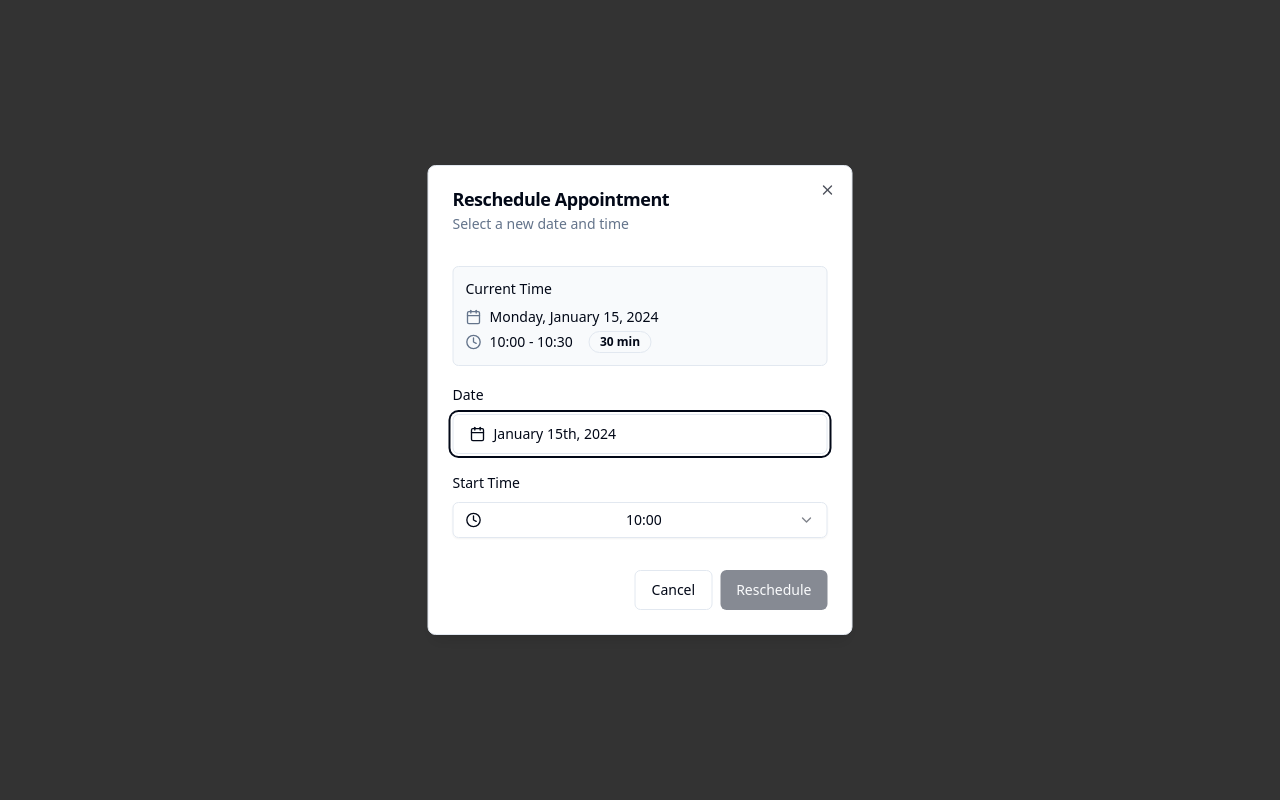
Test: QuickRescheduleDialog › New Time Preview › should show preview when time is changed
// Change the time
Step 1. Click the dropdown → [640, 520], box [452,502,828,538]
(page scrolled)
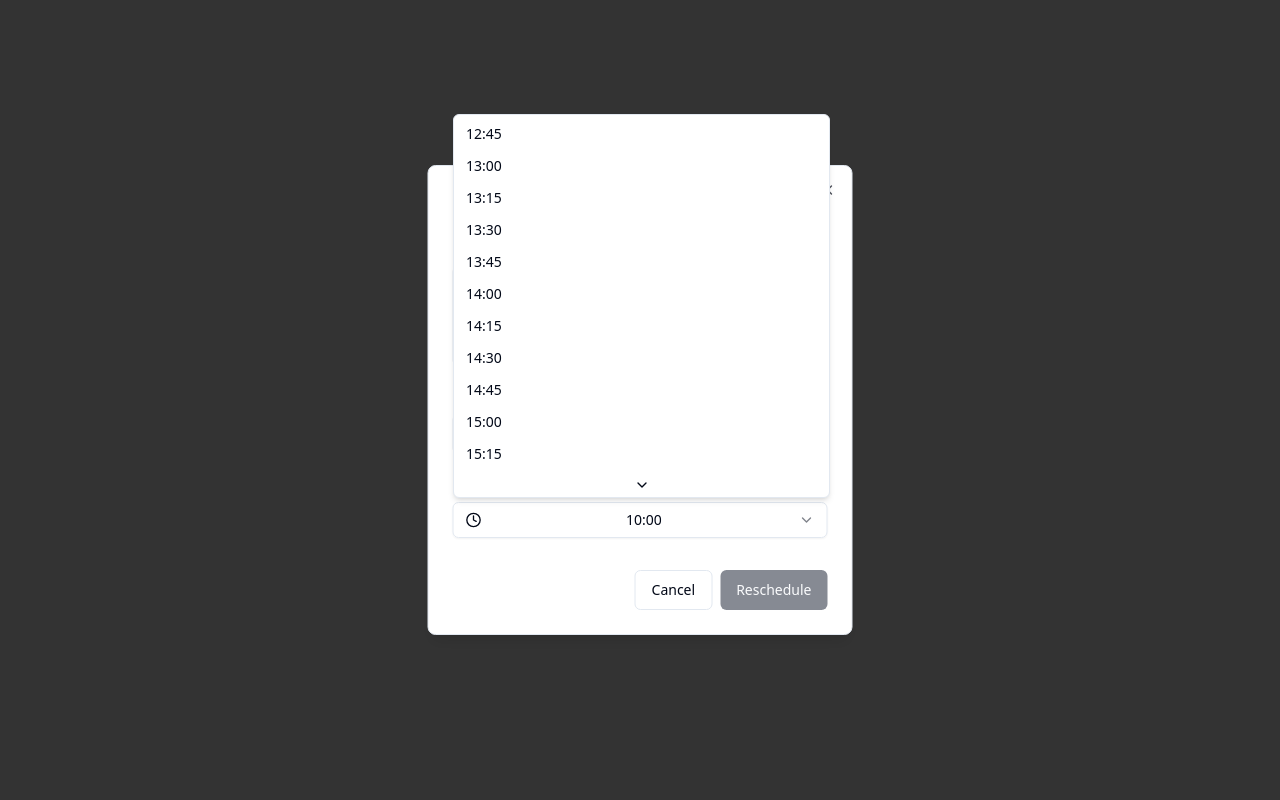
Step 2. Click the option "14:00" → [484, 294], box [466,284,502,303]
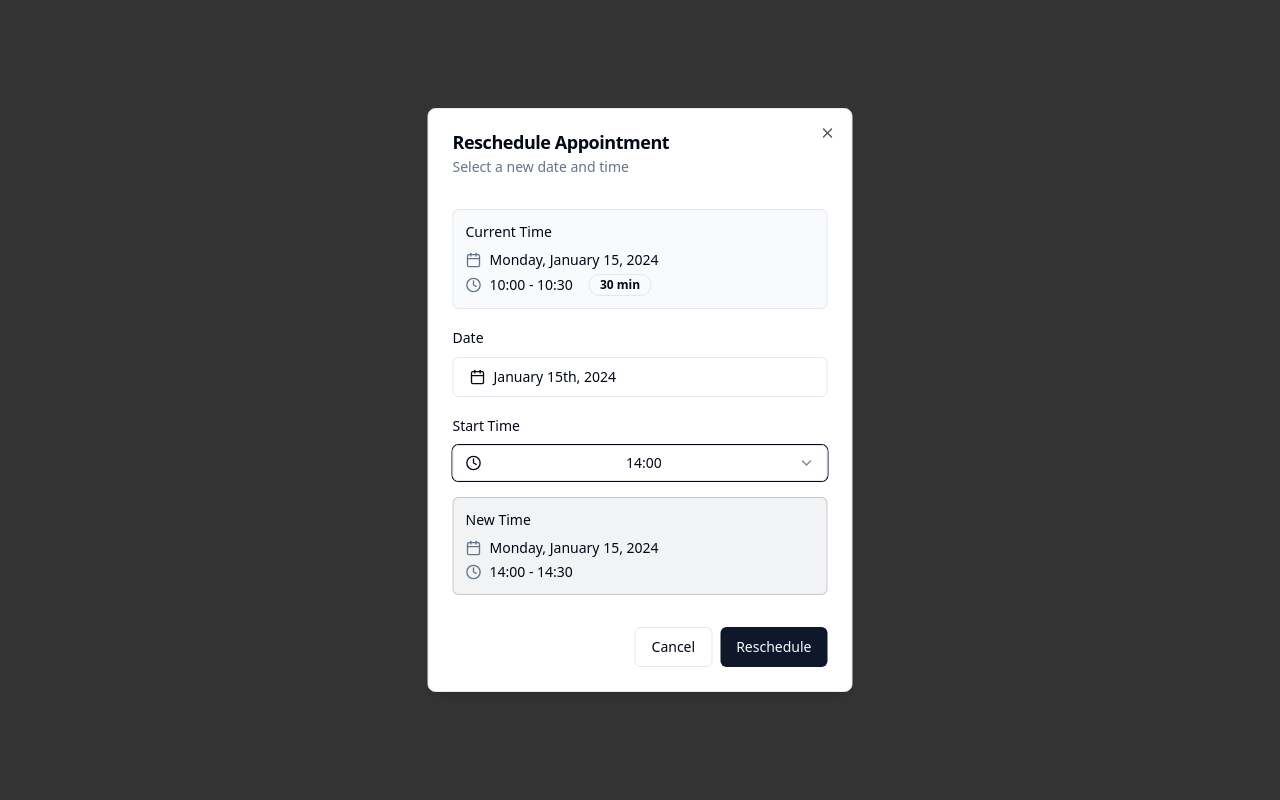
Check: the text "New Time" is shown, box [466,510,531,529]
